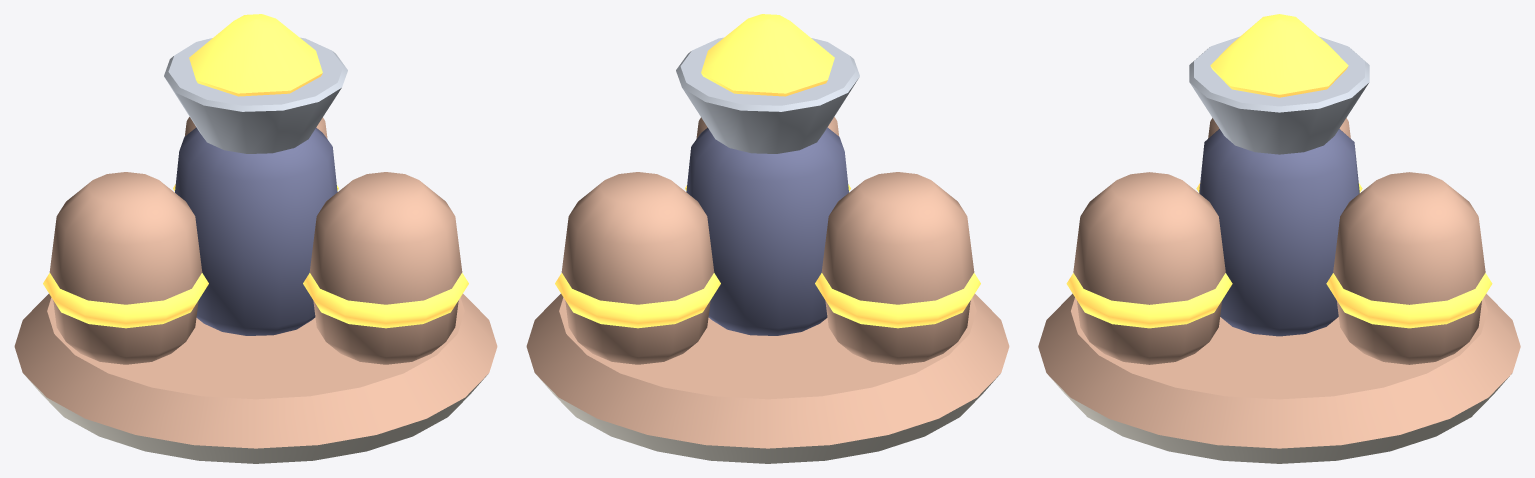
File: R4D_BurnTrap.fbx
3 renders of one model, left to right at view 1: azimuth 30°, elevation 25°; view 2: azimuth 150°, elevation 25°; view 3: azimuth 270°, elevation 25°, orthographic.
Visible parts, largest first — view 1: R4D_BurnTrap_Body, R4D_BurnTrap_Flame; view 2: R4D_BurnTrap_Body, R4D_BurnTrap_Flame; view 3: R4D_BurnTrap_Body, R4D_BurnTrap_Flame.
Boxes of the visible parts, x1,y1,x2,y2 form: R4D_BurnTrap_Body: [14, 37, 497, 463]; R4D_BurnTrap_Flame: [189, 14, 322, 96]; R4D_BurnTrap_Body: [526, 37, 1009, 463]; R4D_BurnTrap_Flame: [701, 14, 834, 96]; R4D_BurnTrap_Body: [1038, 36, 1520, 463]; R4D_BurnTrap_Flame: [1210, 14, 1348, 97].
Size of the model in its own units: 0.37 by 0.2966 by 0.37.
